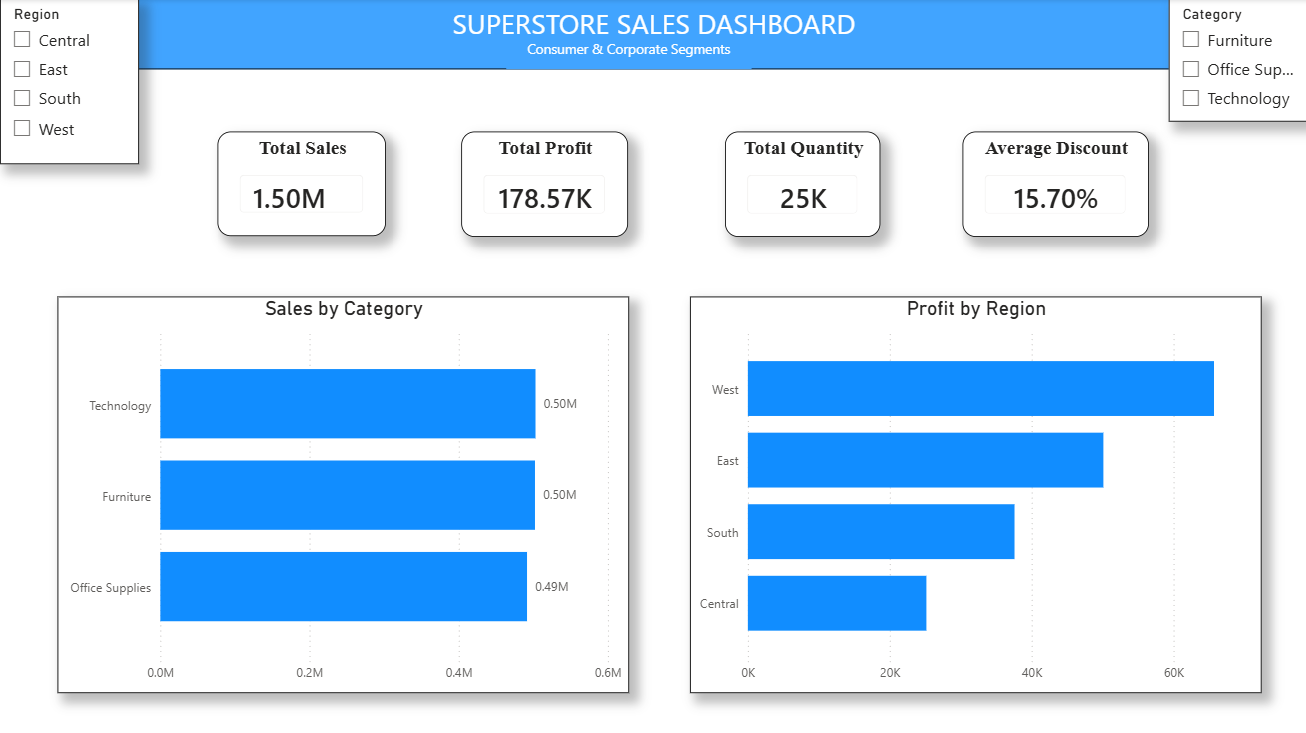

The page's visual inventory and layout, read from the dashboard file:
{"tool":"powerbi","page":{"name":"Page 1","canvas":[1280,720],"ordinal":0},"visuals":[{"type":"cardVisual","title":"Total Sales","fields":{"Data":["Sum(Sample - Superstore.Sales)"]},"box":[212.8,129.6,165.1,102.7],"z":0},{"type":"cardVisual","title":"Total Profit","fields":{"Data":["Sum(Sample - Superstore.Profit)"]},"box":[451.7,129.9,163.3,102.9],"z":1000},{"type":"cardVisual","title":"Total Quantity","fields":{"Data":["Sum(Sample - Superstore.Quantity)"]},"box":[709.7,129.9,152.3,102.9],"z":2000},{"type":"cardVisual","title":"Average Discount","fields":{"Data":["Avg(Sample - Superstore.Discount)"]},"box":[941.6,129.9,182.5,102.9],"z":3000},{"type":"clusteredBarChart","title":"Sales by Category","fields":{"Category":["Sample - Superstore.Category"],"Y":["Sum(Sample - Superstore.Sales)"]},"box":[56.3,291,558.8,387.6],"z":4000},{"type":"clusteredBarChart","title":"Profit by Region","fields":{"Category":["Sample - Superstore.Region"],"Y":["Sum(Sample - Superstore.Profit)"]},"box":[675,291,558.8,387.6],"z":5000},{"type":"textbox","box":[0,0,1280.3,68.5],"z":6000},{"type":"textbox","box":[495.2,34.2,239.7,34.2],"z":7000},{"type":"slicer","fields":{"Values":["Sample - Superstore.Region"]},"box":[0,0,135.7,161.4],"z":8000},{"type":"slicer","fields":{"Values":["Sample - Superstore.Category"]},"box":[1143.3,0,137,119.8],"z":9000}]}

Visuals, with their boxes in screenshot pixels (x1, y1, x2, y2), scaled from the page's 1280x720 canvas onto the 1306x733 screenshot:
"Total Sales" cardVisual: {"x1": 217, "y1": 132, "x2": 386, "y2": 236}
"Total Profit" cardVisual: {"x1": 461, "y1": 132, "x2": 627, "y2": 237}
"Total Quantity" cardVisual: {"x1": 724, "y1": 132, "x2": 880, "y2": 237}
"Average Discount" cardVisual: {"x1": 961, "y1": 132, "x2": 1147, "y2": 237}
"Sales by Category" clusteredBarChart: {"x1": 57, "y1": 296, "x2": 628, "y2": 691}
"Profit by Region" clusteredBarChart: {"x1": 689, "y1": 296, "x2": 1259, "y2": 691}
textbox: {"x1": 0, "y1": 0, "x2": 1305, "y2": 70}
textbox: {"x1": 505, "y1": 35, "x2": 750, "y2": 70}
slicer - Sample - Superstore.Region: {"x1": 0, "y1": 0, "x2": 138, "y2": 164}
slicer - Sample - Superstore.Category: {"x1": 1167, "y1": 0, "x2": 1305, "y2": 122}
